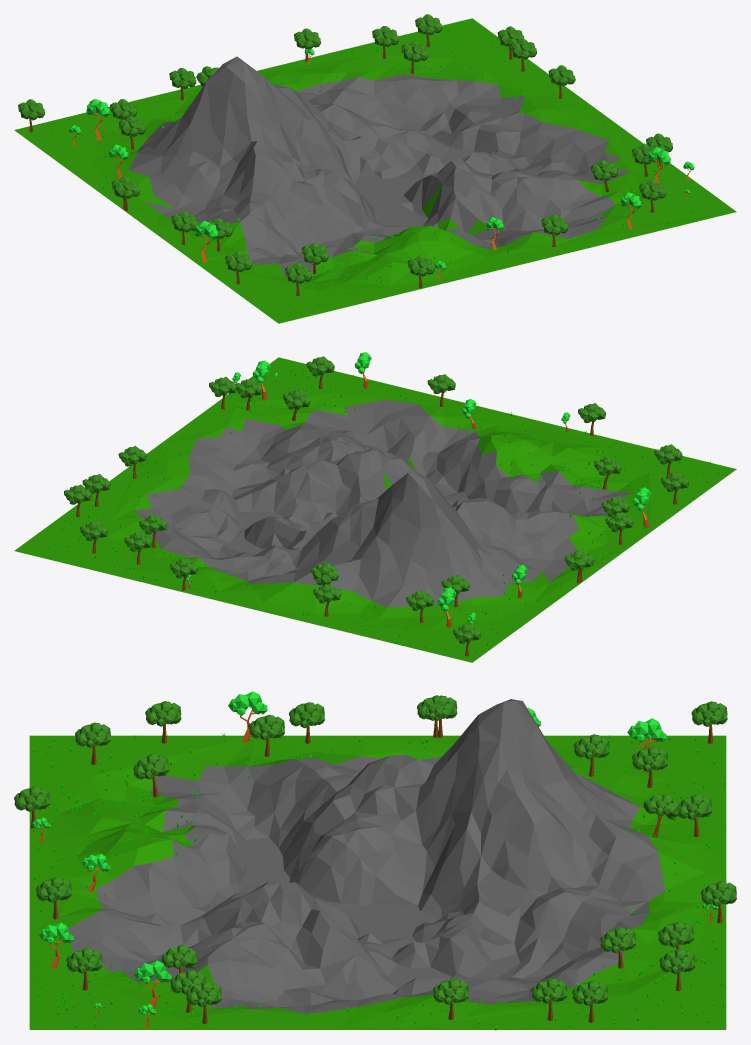
Rendered from Lake.fbx.
3 renders of one model, top to bottom at view 1: azimuth 30°, elevation 25°; view 2: azimuth 150°, elevation 25°; view 3: azimuth 270°, elevation 25°, orthographic. The views are drawn at different scales.
Visible parts, largest first — view 1: Landscape, Tree6, Tree1, Grass; view 2: Landscape, Tree6, Tree1, Grass; view 3: Landscape, Tree6, Tree1, Grass.
Boxes of the visible parts, x1,y1,x2,y2 form: Landscape: (14,18,736,323); Tree6: (18,14,672,295); Tree1: (69,49,694,280); Grass: (32,24,716,316); Landscape: (14,357,736,662); Tree6: (64,356,688,656); Tree1: (186,352,651,627); Grass: (31,368,719,652); Landscape: (29,699,726,1029); Tree6: (14,695,736,1023); Tree1: (31,691,718,1028); Grass: (32,733,725,1030).
Bounding box in the file's own units: 205 × 50.68 × 208.
